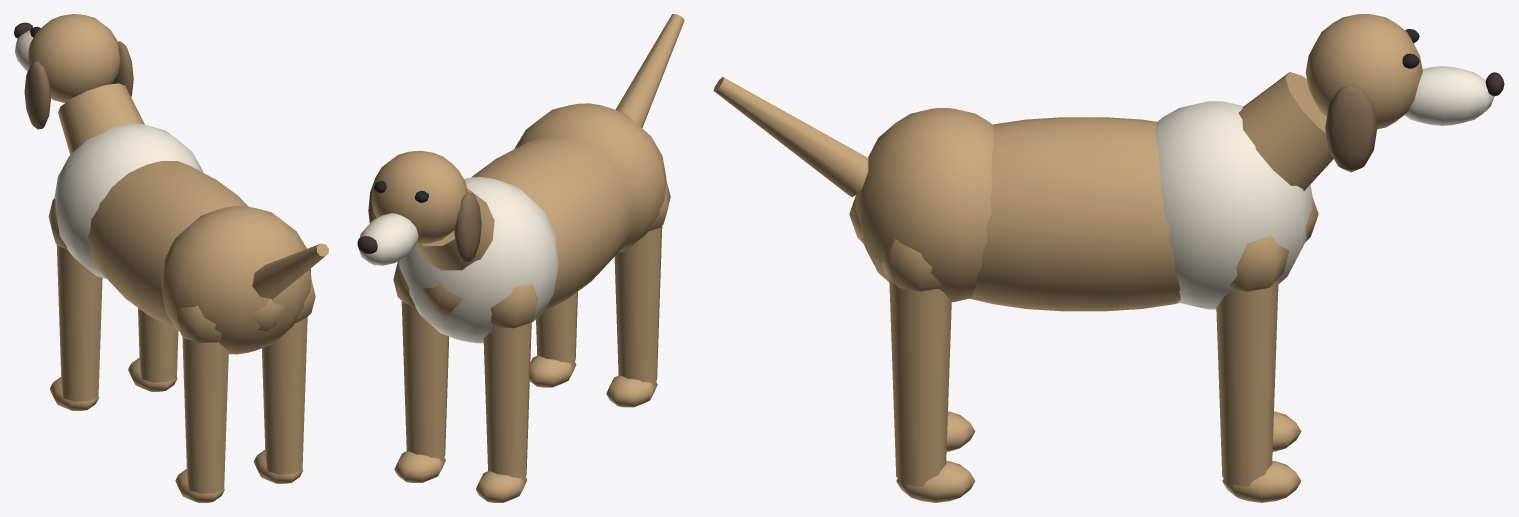
File: dog.glb
3 views of the same model, side by side, from view 1: azimuth 30°, elevation 25°; view 2: azimuth 150°, elevation 25°; view 3: azimuth 270°, elevation 25° (orthographic). The views are drawn at different scales.
Visible parts, largest first — view 1: Body, Head, LegRL, LegRR, LegFL, LegFR, Tail; view 2: Body, Head, LegFL, LegRL, LegFR, LegRR, Tail; view 3: Body, Head, LegFR, LegRR, Tail.
Part boxes in pixels (x1,y1,x2,y2): Body: (54,83,311,354); Head: (14,14,133,129); LegRL: (175,305,228,502); LegRR: (253,278,315,483); LegFL: (48,198,102,410); LegFR: (128,308,178,391); Tail: (252,243,328,299); Body: (399,103,666,343); Head: (357,150,481,265); LegFL: (476,284,537,502); LegRL: (606,179,670,407); LegFR: (393,261,449,482); LegRR: (529,292,577,387); Tail: (615,14,684,127); Body: (849,72,1333,311); Head: (1305,14,1504,172); LegFR: (1216,235,1301,502); LegRR: (881,239,975,502); Tail: (713,77,868,197).
Bounding box in the file's own units: 0.31 × 0.77 × 1.21.
